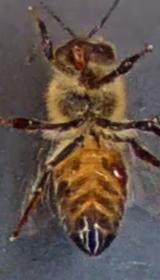varroa_mite: (106, 160, 130, 188)
